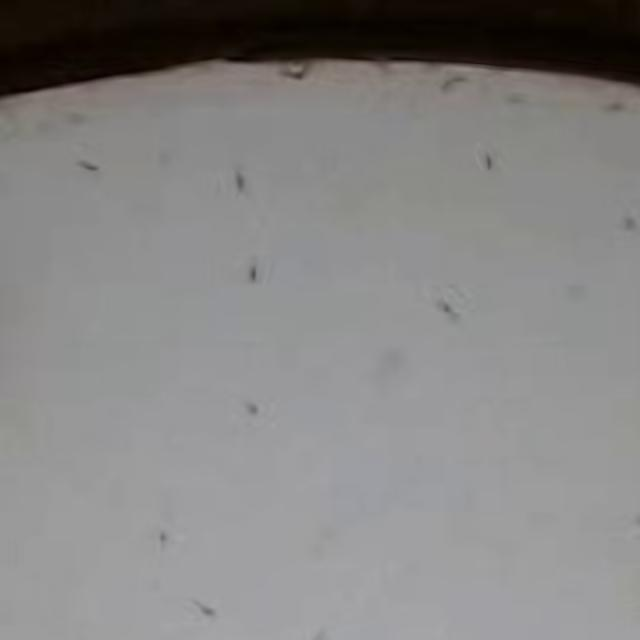shrimp-seed: (215, 151, 259, 205), (428, 287, 471, 332), (610, 190, 640, 252), (178, 586, 224, 624), (66, 148, 110, 184), (228, 391, 274, 424), (238, 244, 266, 294), (142, 529, 179, 563), (474, 138, 507, 173)
